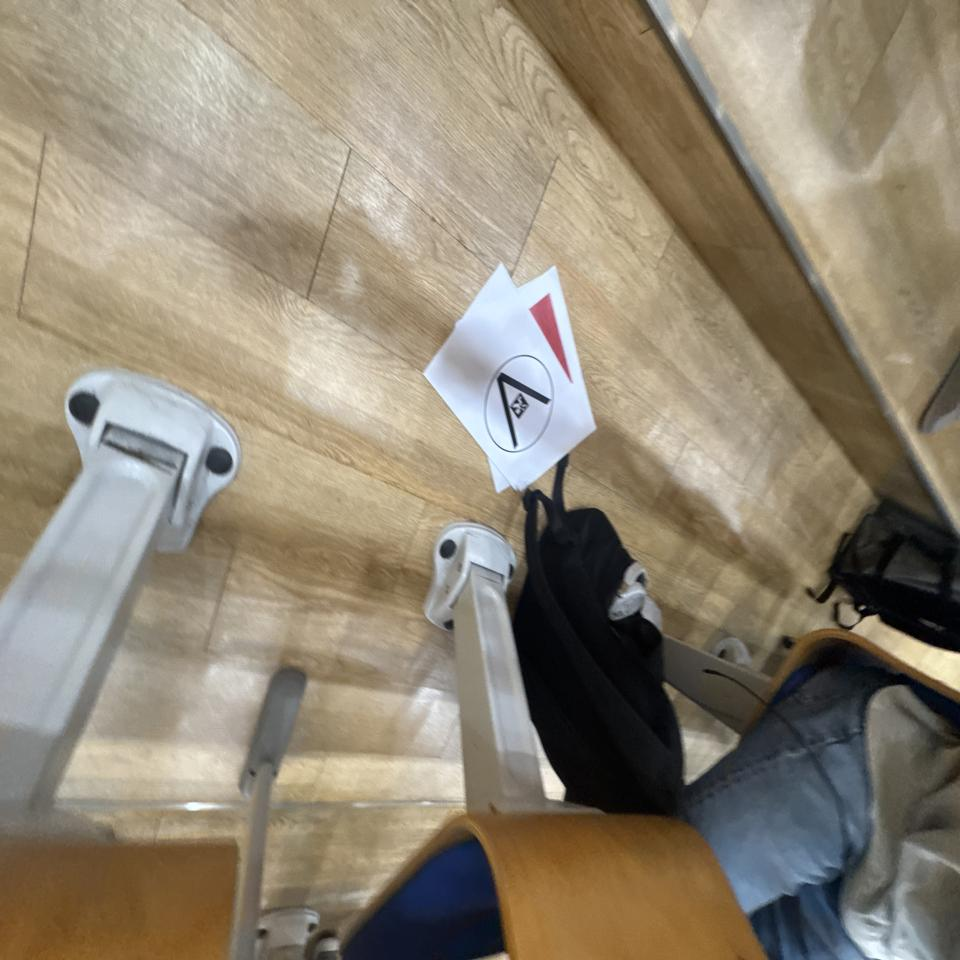vertiport: (478, 345, 560, 457)
